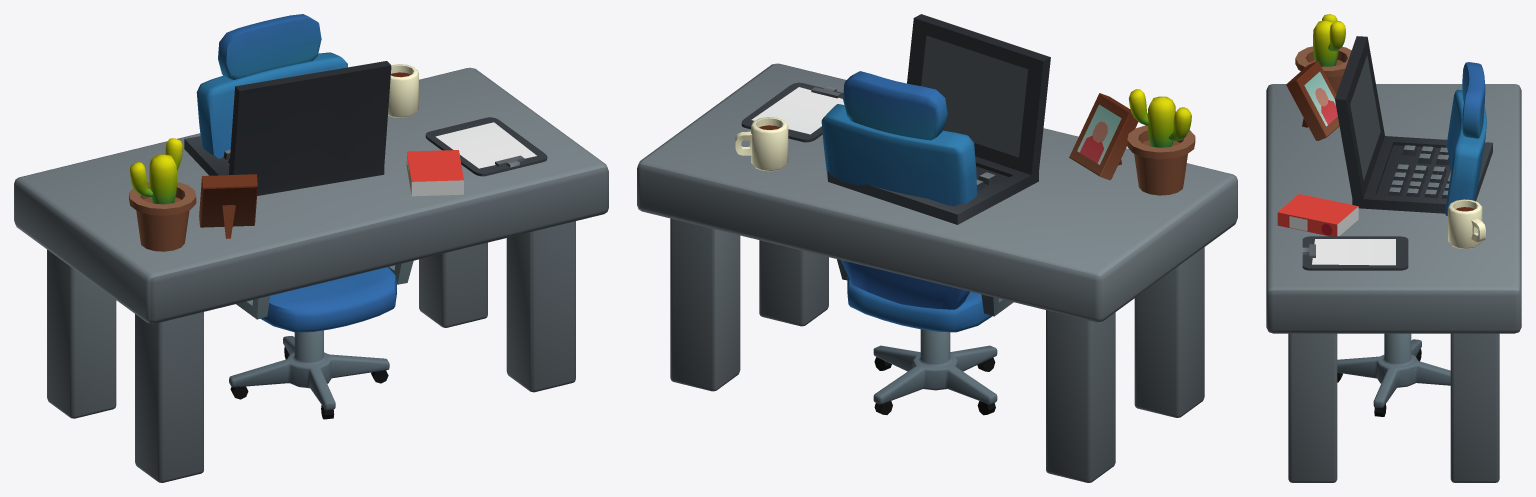
Rendered from new_desk.fbx.
The picture shows the model from 3 angles, left to right: view 1: azimuth 30°, elevation 25°; view 2: azimuth 150°, elevation 25°; view 3: azimuth 270°, elevation 25°; orthographic projection. The views are drawn at different scales.
Visible parts, largest first — view 1: desk_top, Plane.012; view 2: desk_top, Plane.012; view 3: desk_top, Plane.012.
Part boxes in pixels (<box>): desk_top: <box>14,61,608,482</box>; Plane.012: <box>196,14,413,419</box>; desk_top: <box>637,14,1237,482</box>; Plane.012: <box>821,71,1013,415</box>; desk_top: <box>1266,14,1521,482</box>; Plane.012: <box>1337,62,1486,416</box>.
Size of the model in its own units: 111 by 77.69 by 57.5.
1 material, 1 textured.
